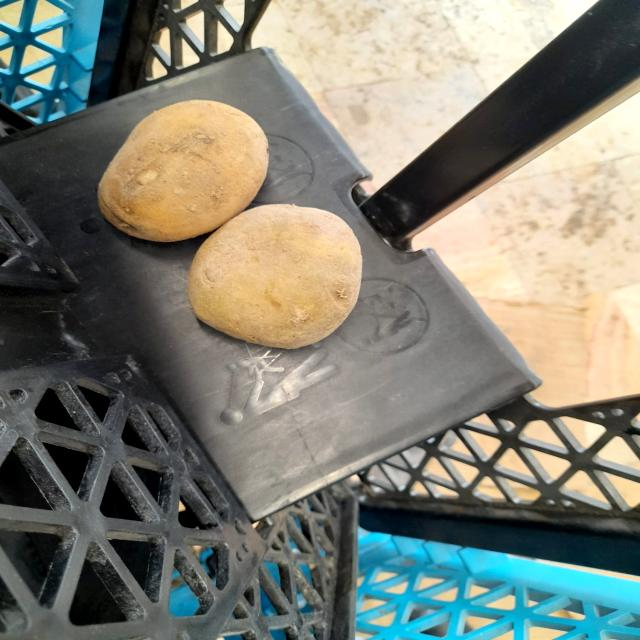potato: (179, 195, 383, 350), (83, 96, 283, 242)
